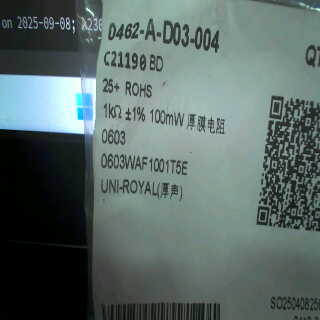1kR: (101, 100, 124, 121)
